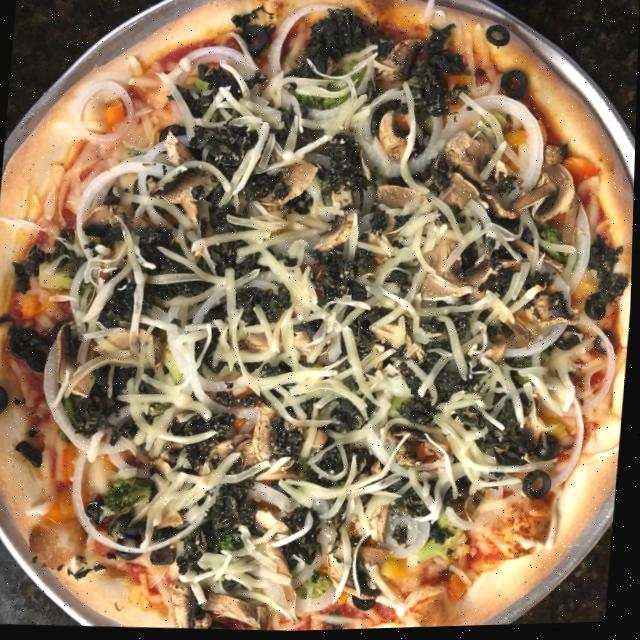black_olives: (6, 324, 57, 376), (8, 426, 53, 472), (519, 464, 559, 507), (351, 568, 388, 614), (112, 527, 149, 566), (497, 66, 532, 104), (534, 431, 565, 470), (236, 21, 267, 59), (555, 323, 584, 358), (151, 541, 182, 571), (480, 25, 511, 52), (587, 294, 609, 328), (594, 329, 614, 360), (160, 122, 187, 143), (201, 617, 238, 632), (0, 375, 12, 420)
mushrooms: (169, 574, 280, 635), (156, 133, 226, 211), (435, 171, 523, 230), (422, 237, 497, 303), (440, 124, 507, 197), (48, 323, 108, 403), (259, 541, 309, 630), (476, 303, 539, 371), (260, 152, 321, 217), (96, 323, 169, 375), (521, 167, 584, 227), (386, 424, 454, 474), (513, 289, 584, 335), (370, 318, 430, 369), (505, 233, 571, 279), (378, 33, 429, 90), (77, 200, 141, 244), (375, 109, 419, 170), (246, 404, 286, 463), (309, 216, 356, 259), (371, 181, 430, 215), (356, 228, 399, 273), (202, 438, 241, 479), (255, 502, 293, 541), (320, 183, 361, 217), (371, 506, 402, 550), (511, 186, 556, 216), (541, 140, 573, 174), (244, 329, 277, 354), (156, 508, 188, 532), (295, 330, 314, 359), (314, 429, 333, 454)
pizza: (0, 0, 640, 640)
